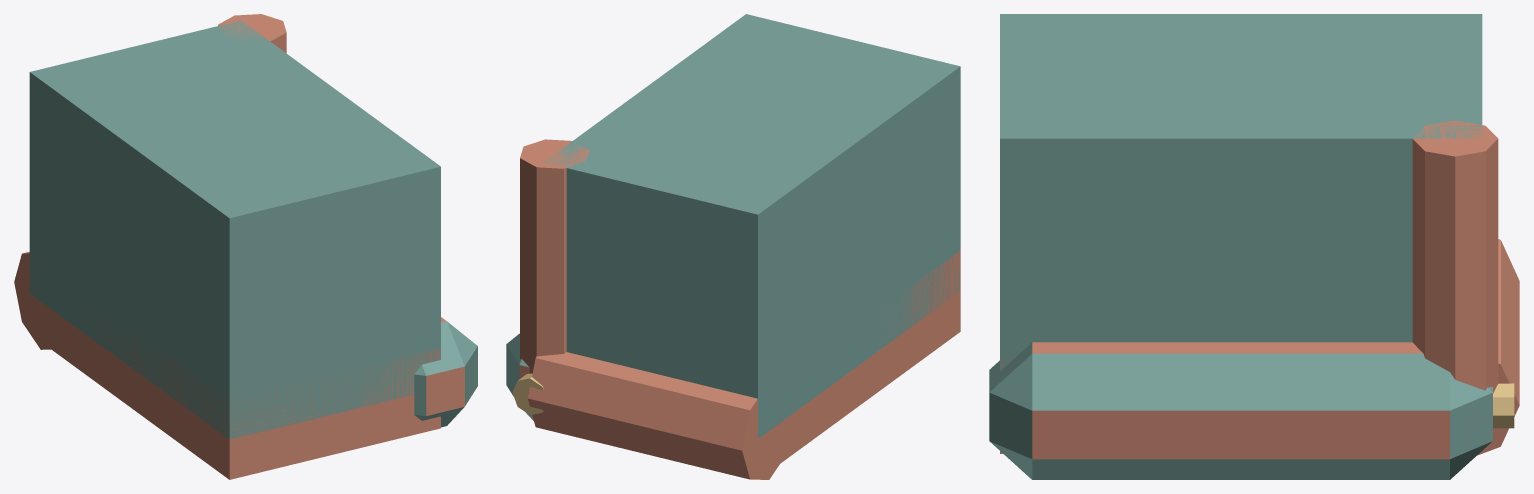
Rendered from TH_Tile_8.fbx.
3 views of the same model, side by side, from view 1: azimuth 30°, elevation 25°; view 2: azimuth 150°, elevation 25°; view 3: azimuth 270°, elevation 25° (orthographic). The views are drawn at different scales.
Parts seen in each view (by area): view 1: TH_Tile_8; view 2: TH_Tile_8; view 3: TH_Tile_8.
Part boxes in pixels (left/top/right/bottom): TH_Tile_8: left=14, top=14, right=477, bottom=479; TH_Tile_8: left=506, top=14, right=960, bottom=479; TH_Tile_8: left=989, top=14, right=1519, bottom=479.
Bounding box in the file's own units: 0.68 × 0.68 × 0.99.
